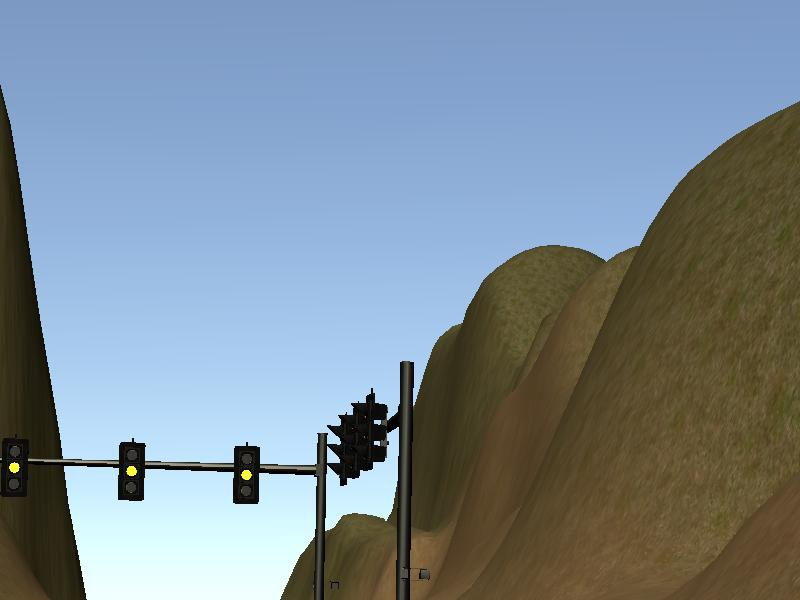yellow_light: (1, 440, 26, 497), (120, 441, 144, 500), (236, 446, 260, 501)
